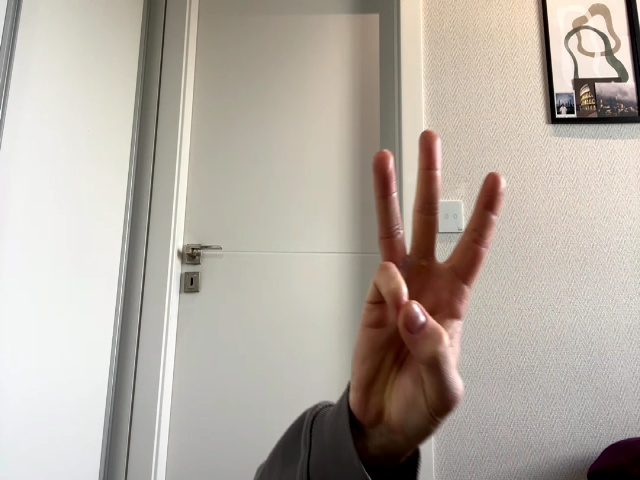W: (351, 130, 503, 439)
